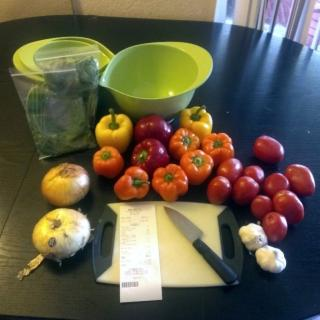tomato: (180, 153, 216, 185), (273, 190, 303, 221), (260, 211, 288, 242), (285, 163, 313, 194), (206, 174, 233, 205), (233, 175, 259, 207), (250, 137, 282, 159), (217, 158, 244, 179), (263, 173, 290, 193), (250, 195, 272, 218), (245, 164, 263, 182)
